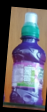blueberries: (10, 12, 44, 106)
